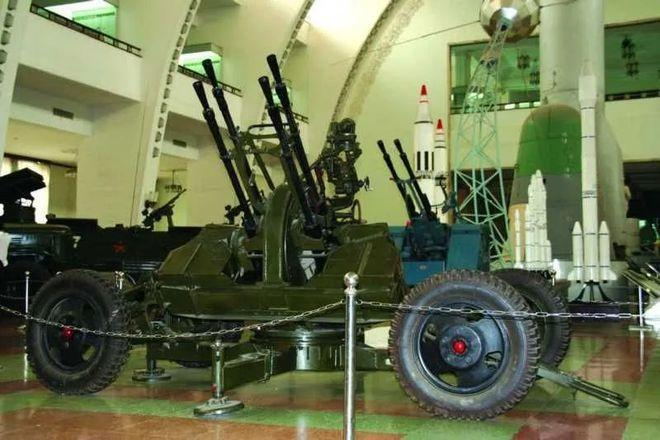MIL_SPG: (28, 58, 570, 418)
